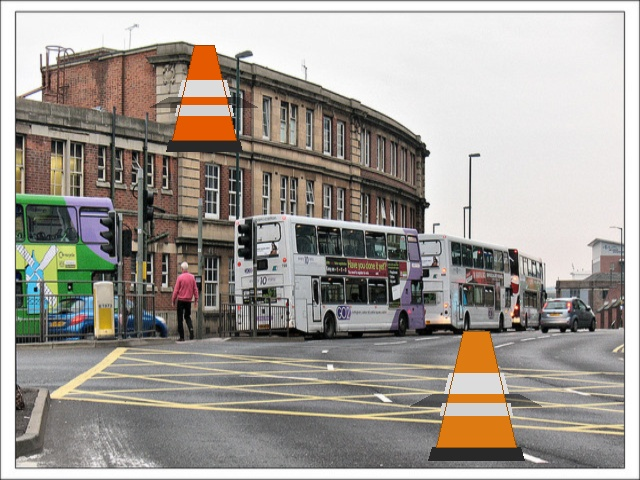traffic-cone: (428, 331, 524, 460), (166, 45, 242, 151)
